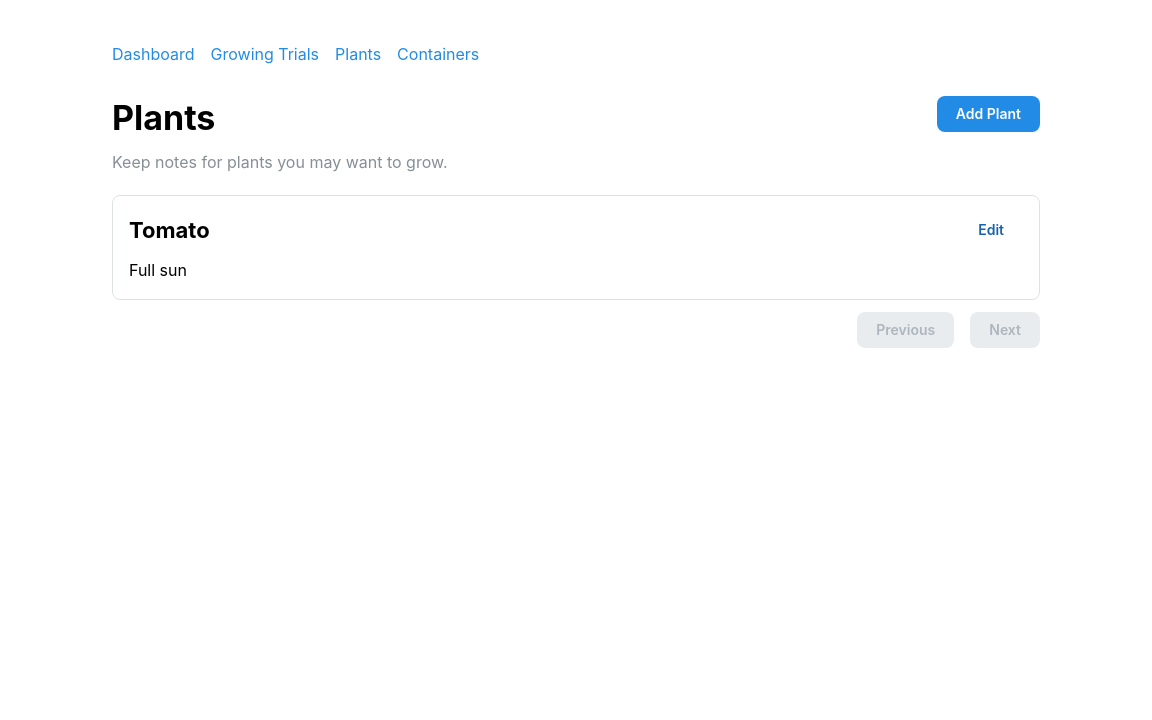
PlantsPage › opens the edit modal with the selected Plant values
Expected: the heading "Tomato" is shown, [129,215,210,245]
Click the button with aria-label "Edit Tomato": (991, 230) [959,212,1023,248]
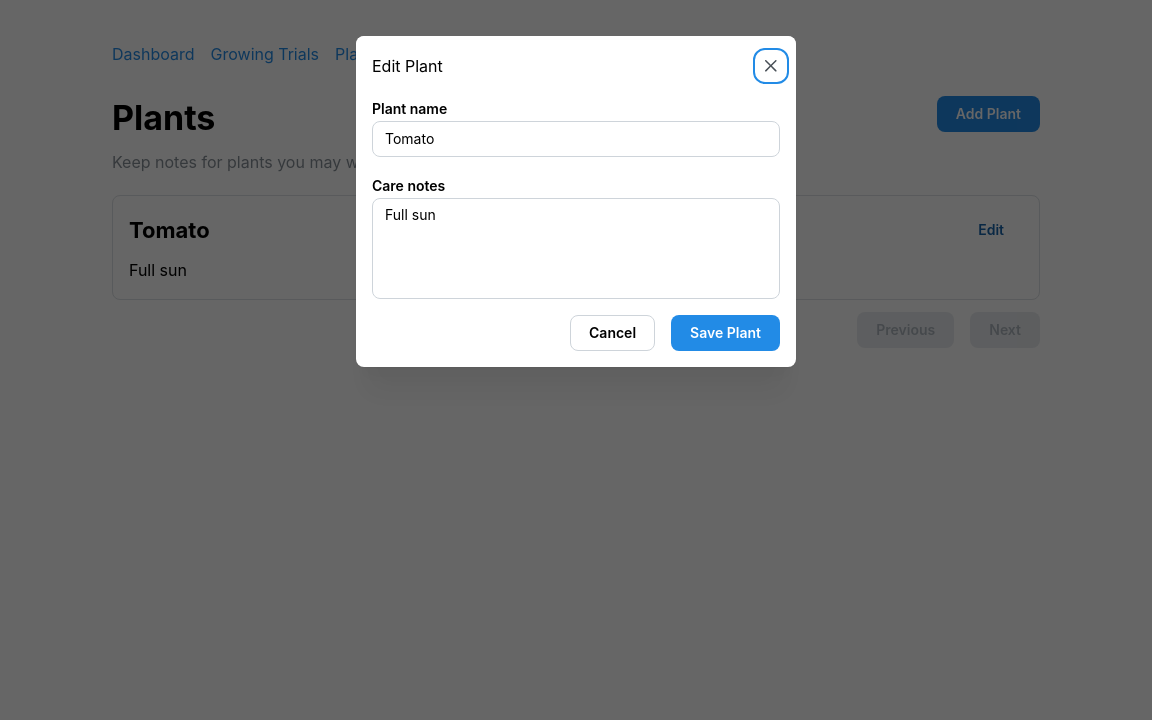
Now the heading "Edit Plant" is shown, box [372,58,443,74]
Now the field showing "Tomato" is shown, box [372,121,780,157]
Now the text box showing "Full sun" is shown, box [372,198,780,299]
